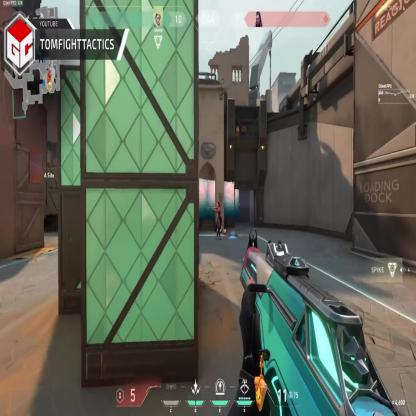enemy: (212, 202, 222, 239)
enemy_head: (216, 202, 220, 209)
